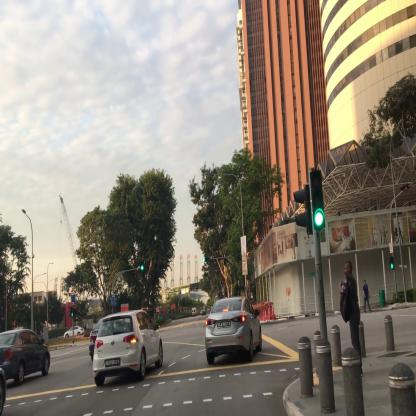green_traffic_light: (310, 171, 325, 228), (141, 266, 147, 270), (202, 258, 209, 261)
